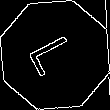L_NE: (26, 29, 84, 81)
